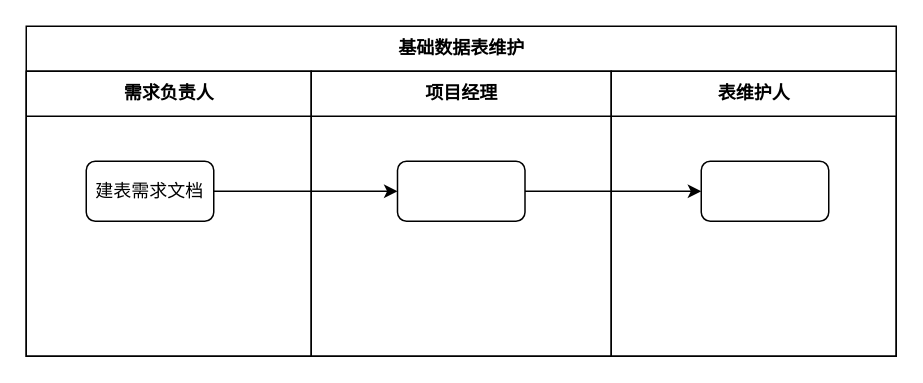
This 923x383 diagram has some shape labels left out. The shapes that lost their labels are listed below. From the top down, each one's box as (x1, y1, x2, y2) in pixels, then its label:
(396, 160, 525, 221): 组织建表需求评审会议
(700, 160, 829, 221): 执行建(改)表
